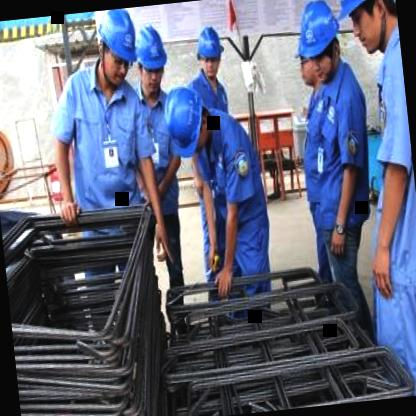helmet: (288, 0, 344, 85), (158, 86, 218, 160), (93, 7, 142, 83), (334, 0, 400, 53), (132, 15, 172, 99), (192, 19, 226, 81)
